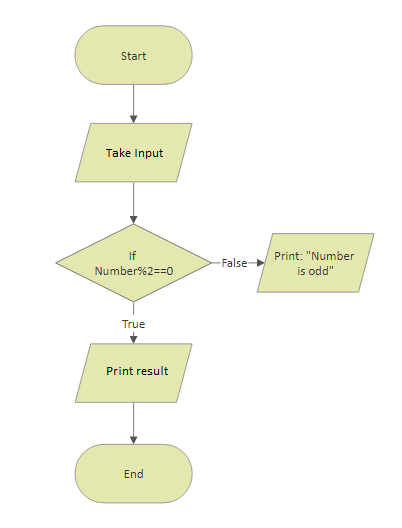arrow: (128, 399, 140, 445), (211, 258, 264, 268), (129, 178, 140, 226), (128, 301, 139, 347), (128, 81, 138, 120)
data: (72, 120, 196, 187), (252, 231, 376, 295), (72, 341, 193, 406)
decision: (54, 221, 217, 303)
terminator: (72, 441, 196, 506), (72, 22, 194, 87)
text: (270, 249, 356, 278), (93, 250, 179, 277), (104, 363, 172, 377), (104, 146, 164, 159), (120, 315, 147, 330), (118, 49, 149, 61), (220, 258, 248, 269), (123, 467, 144, 481)
